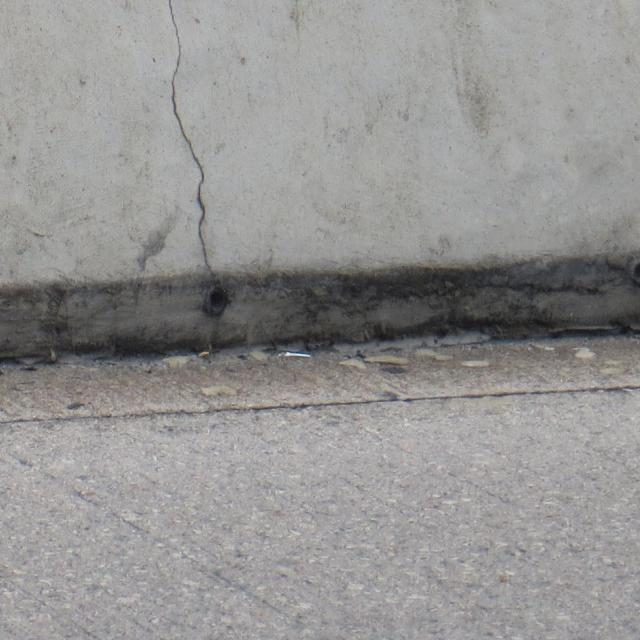vertical crack: (169, 0, 218, 283)
